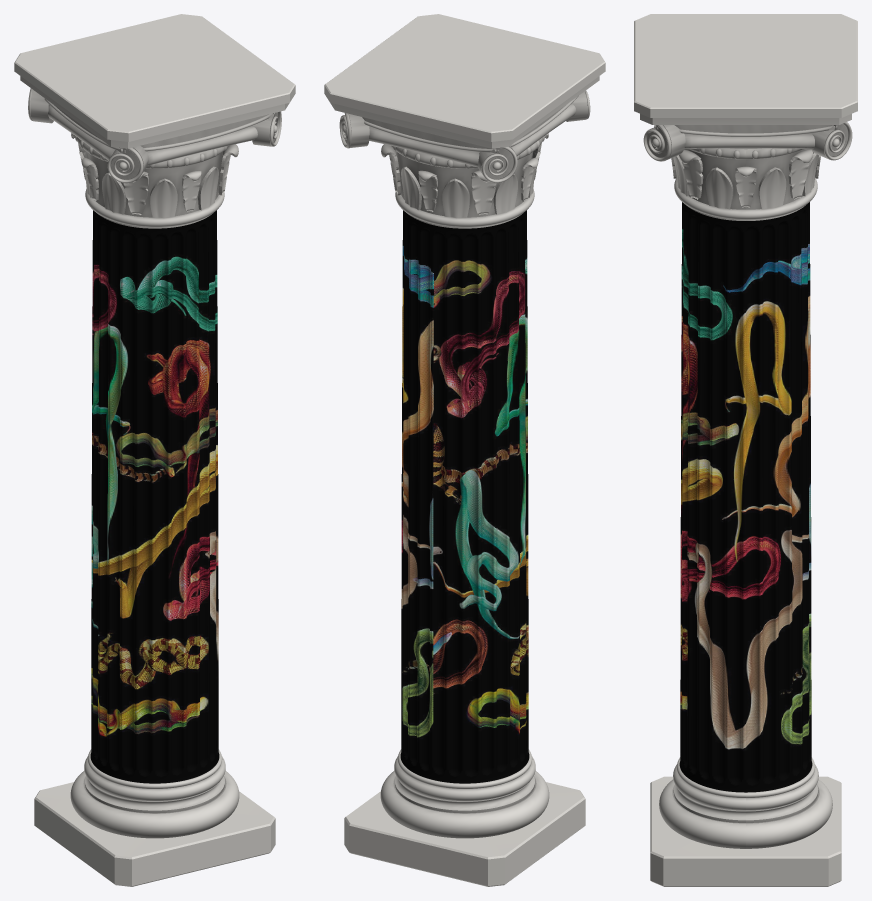
Rendered from colonna-serpenti.glb.
The picture shows the model from 3 angles, left to right: view 1: azimuth 30°, elevation 25°; view 2: azimuth 150°, elevation 25°; view 3: azimuth 270°, elevation 25°; orthographic projection. The views are drawn at different scales.
Parts seen in each view (by area): view 1: Colonna; view 2: Colonna; view 3: Colonna.
Part boxes in pixels (x1=…): Colonna: x1=14, y1=14, x2=295, y2=886; Colonna: x1=324, y1=14, x2=605, y2=886; Colonna: x1=634, y1=14, x2=857, y2=886.
Size of the model in its own units: 0.6968 by 2.7 by 0.6968.
2 materials, 1 textured.
